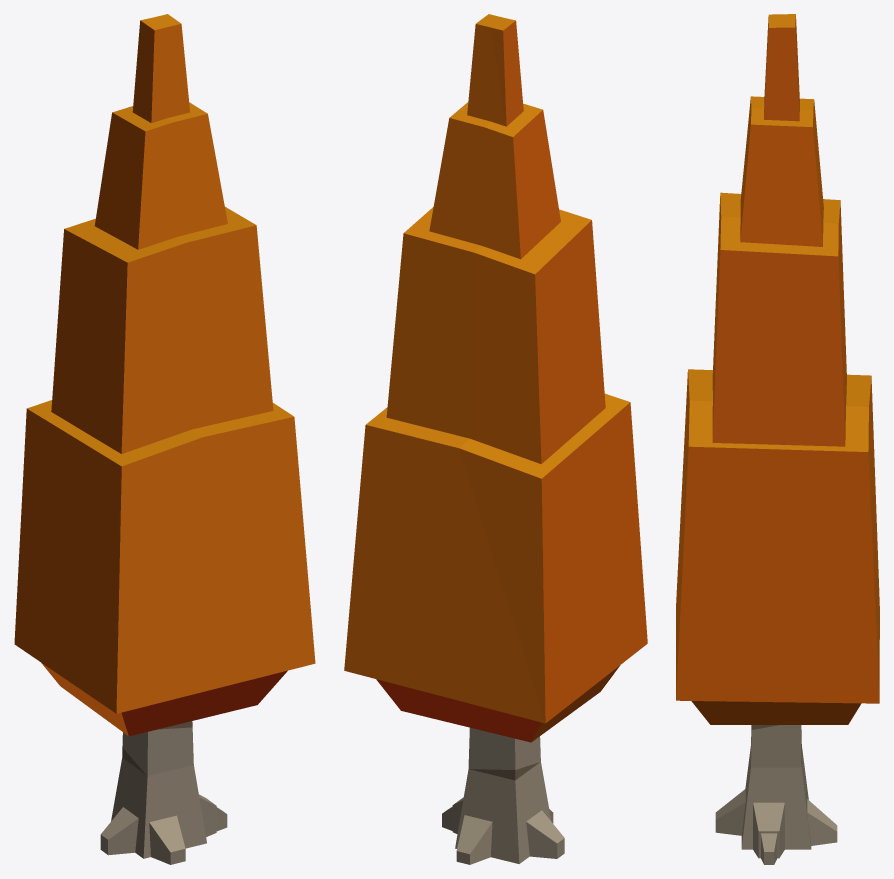
The model's file is SF_Env_Tree_Fall_03.fbx.
3 renders of one model, left to right at view 1: azimuth 30°, elevation 25°; view 2: azimuth 150°, elevation 25°; view 3: azimuth 270°, elevation 25°, orthographic.
Visible parts, largest first — view 1: SF_Env_Tree_Fall_03; view 2: SF_Env_Tree_Fall_03; view 3: SF_Env_Tree_Fall_03.
Boxes of the visible parts, <box> form: SF_Env_Tree_Fall_03: <box>14,14,315,864</box>; SF_Env_Tree_Fall_03: <box>344,14,647,864</box>; SF_Env_Tree_Fall_03: <box>676,14,879,864</box>.
Size of the model in its own units: 2.28 by 8.9 by 2.01.
